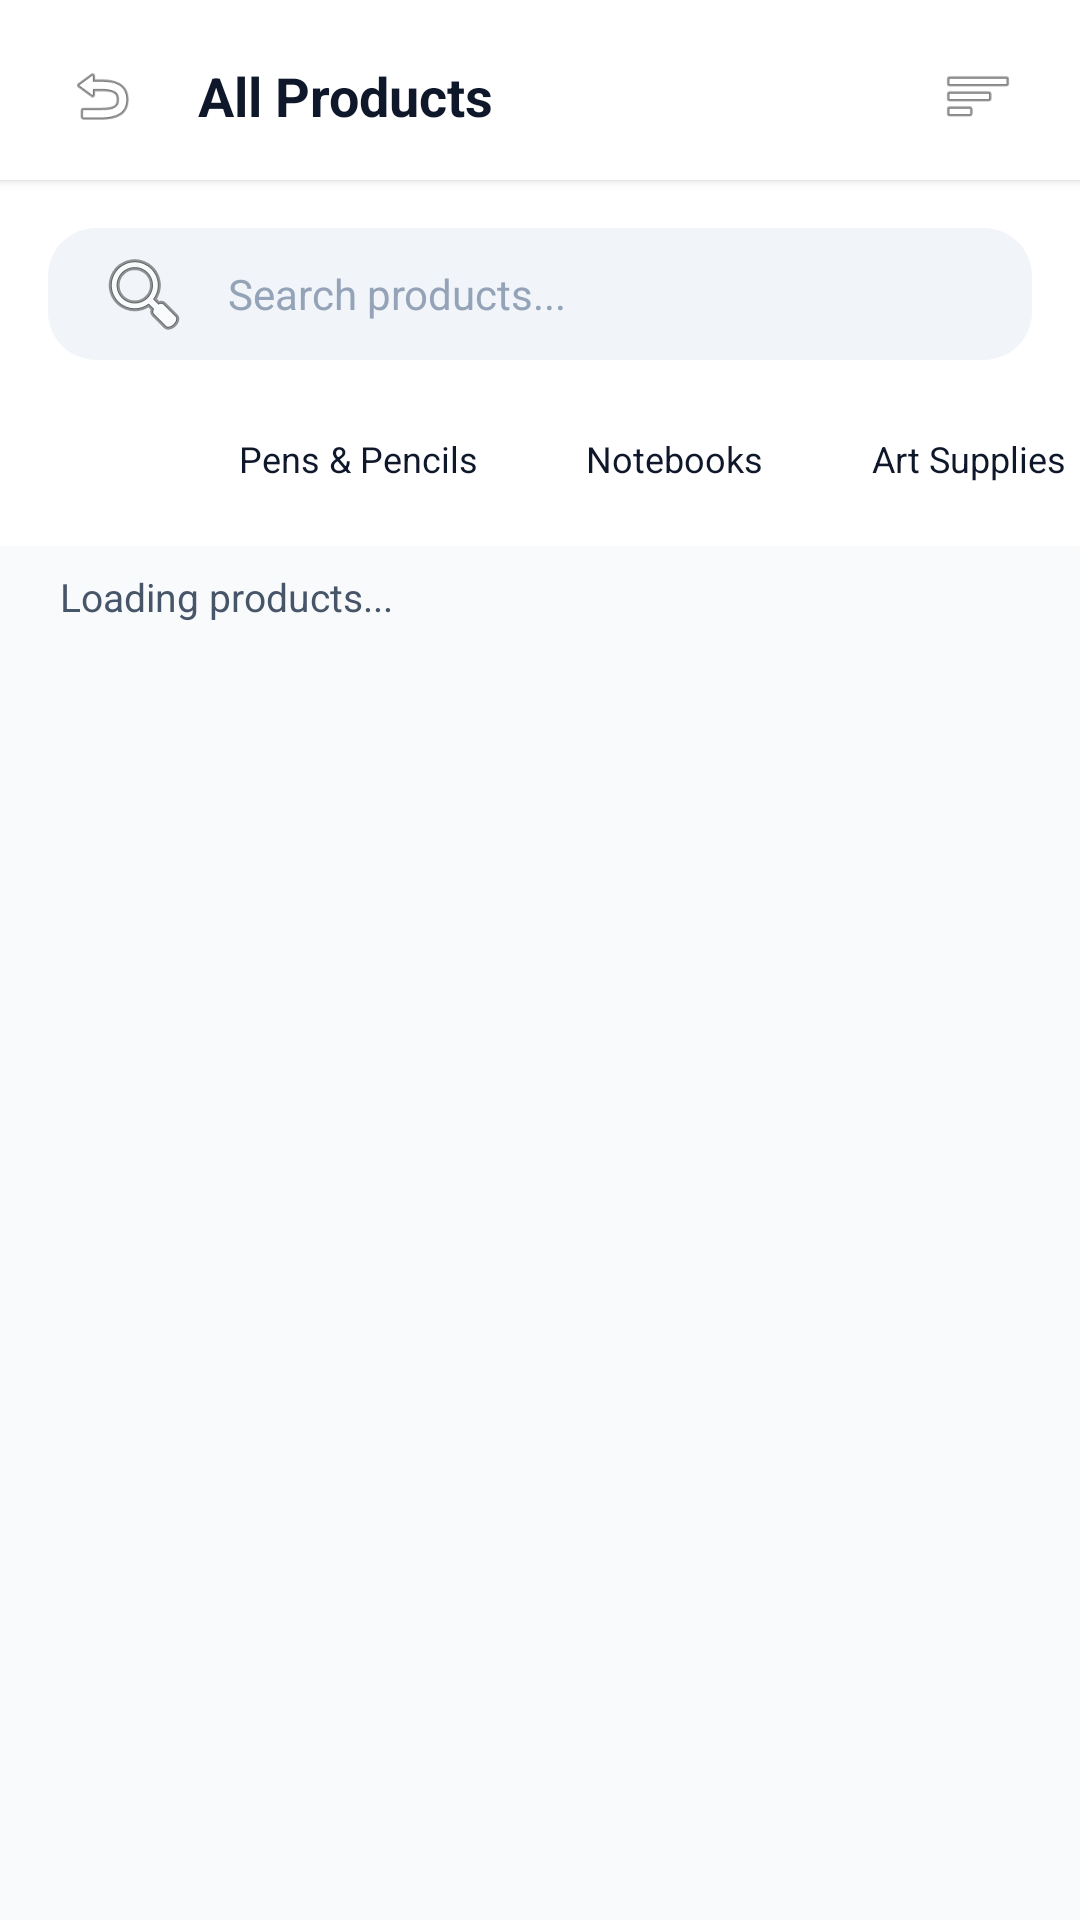

Screen size 1080px x 1920px. Icon name, then its center in pixels as (x=x, y=y):
Back: (x=103, y=96)
Filter: (x=978, y=96)
